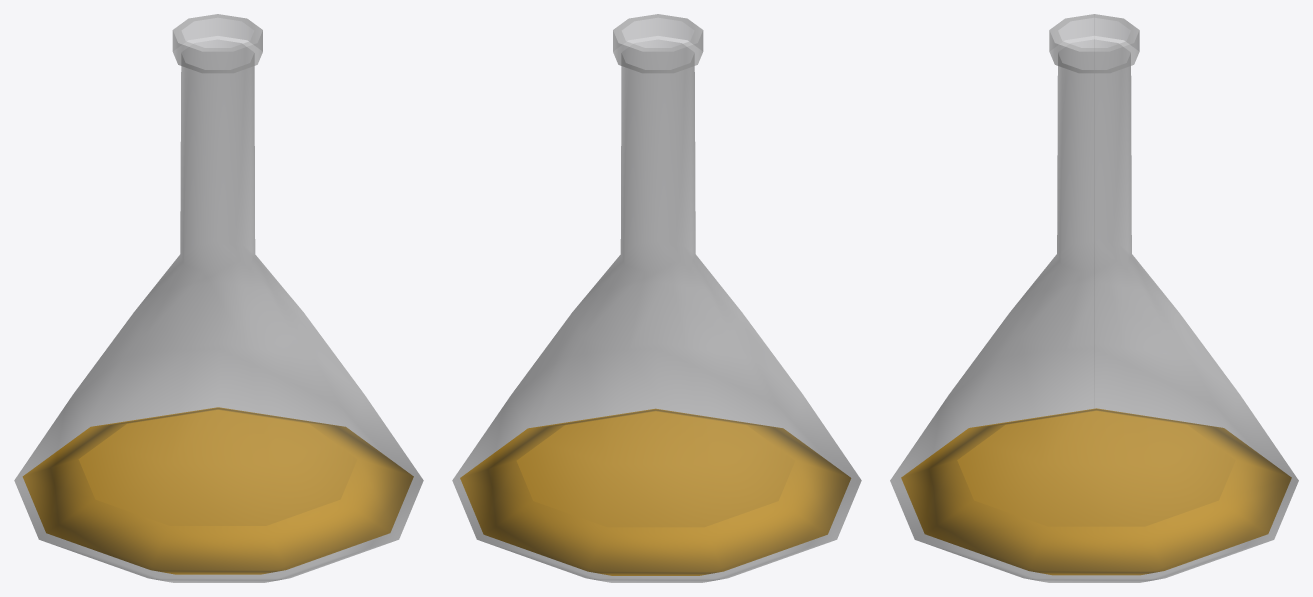
File: ConicalFlaskHalfFull.fbx
3 views of the same model, side by side, from view 1: azimuth 30°, elevation 25°; view 2: azimuth 150°, elevation 25°; view 3: azimuth 270°, elevation 25° (orthographic).
Parts seen in each view (by area): view 1: polySurface8; view 2: polySurface8; view 3: polySurface8.
Part boxes in pixels (x1=…): polySurface8: x1=14, y1=14, x2=423, y2=582; polySurface8: x1=452, y1=14, x2=861, y2=582; polySurface8: x1=890, y1=14, x2=1298, y2=582.
Bounding box in the file's own units: 15.31 × 20.83 × 15.55.
